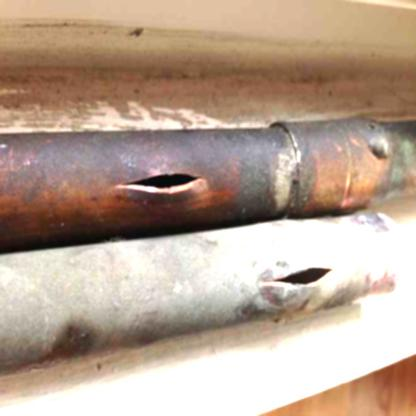burst: (128, 171, 210, 209), (262, 262, 337, 302)
